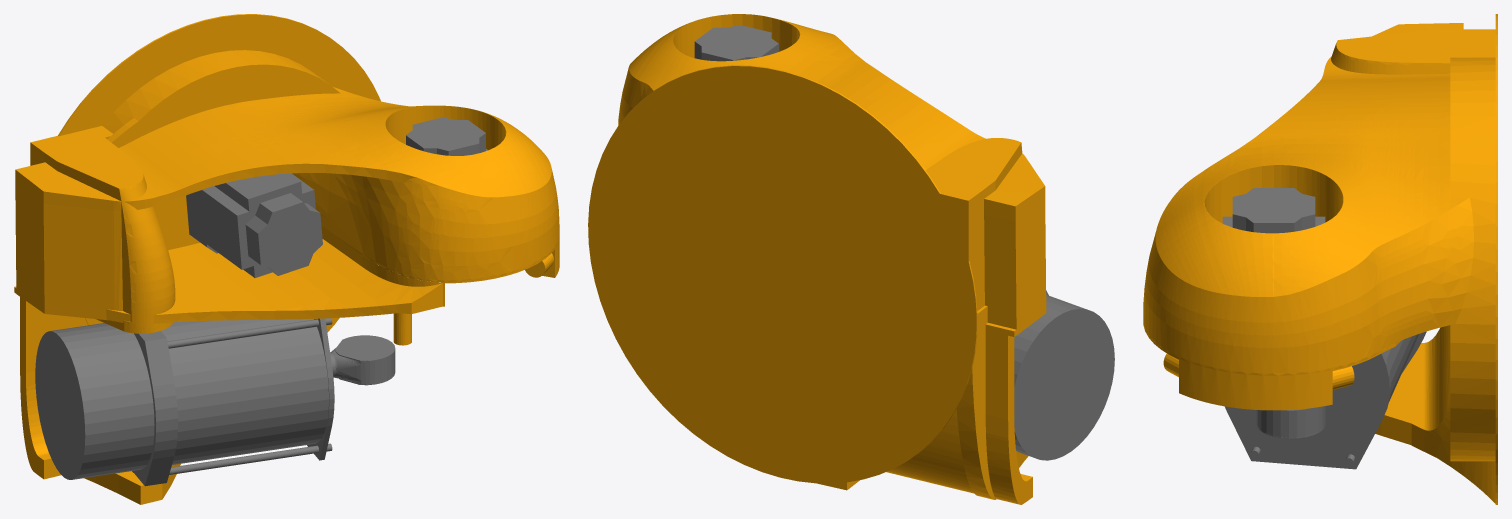
The picture shows the model from 3 angles, left to right: view 1: azimuth 30°, elevation 25°; view 2: azimuth 150°, elevation 25°; view 3: azimuth 270°, elevation 25°; orthographic projection. The views are drawn at different scales.
Parts seen in each view (by area): view 1: /node0/Part__Feature003-mesh/0, /node2/Part__Feature004-mesh/0, /node4/Part__Feature005-mesh/0, /node5/Part__Feature007-mesh/0, /node3/Part__Feature006-mesh/0; view 2: /node0/Part__Feature003-mesh/0, /node2/Part__Feature004-mesh/0, /node3/Part__Feature006-mesh/0; view 3: /node0/Part__Feature003-mesh/0, /node2/Part__Feature004-mesh/0, /node3/Part__Feature006-mesh/0, /node5/Part__Feature007-mesh/0.
Boxes of the visible parts, box(x1,y1,x2,y2) form: /node0/Part__Feature003-mesh/0: box(14, 14, 559, 504); /node2/Part__Feature004-mesh/0: box(35, 318, 334, 486); /node4/Part__Feature005-mesh/0: box(186, 173, 322, 277); /node5/Part__Feature007-mesh/0: box(330, 335, 395, 385); /node3/Part__Feature006-mesh/0: box(406, 117, 487, 155); /node0/Part__Feature003-mesh/0: box(588, 14, 1046, 504); /node2/Part__Feature004-mesh/0: box(1014, 290, 1114, 460); /node3/Part__Feature006-mesh/0: box(694, 24, 778, 61); /node0/Part__Feature003-mesh/0: box(1143, 14, 1497, 504); /node2/Part__Feature004-mesh/0: box(1224, 331, 1426, 469); /node3/Part__Feature006-mesh/0: box(1222, 188, 1325, 233); /node5/Part__Feature007-mesh/0: box(1256, 406, 1325, 438).
Size of the model in its own units: 1.14 by 0.9199 by 0.664.
